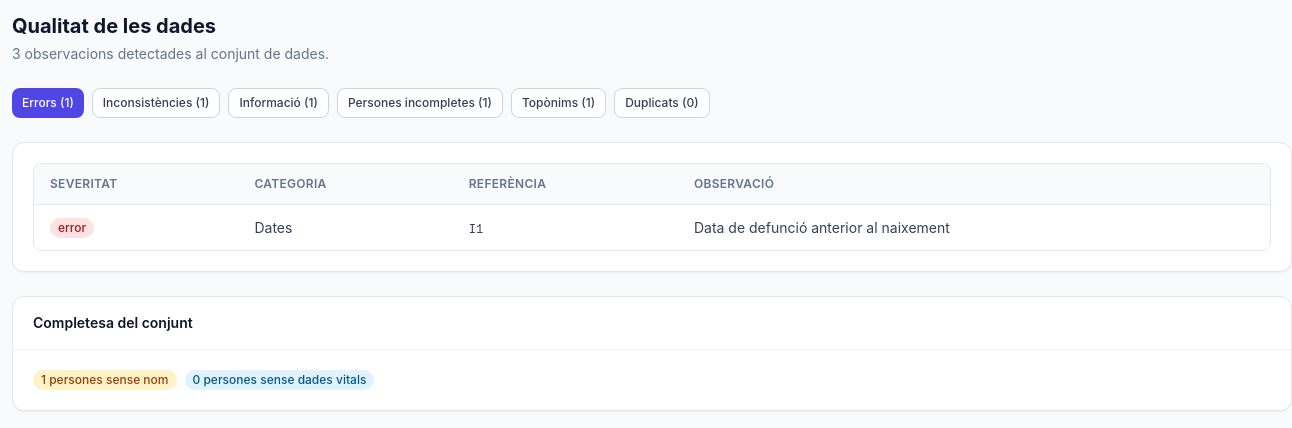
Scenario: QualityPage › mostra els topònims
Expected: the heading "Qualitat de les dades" is shown, [12, 14, 216, 38]
Click the button "Topònims (1)" at (559, 103), box [511, 88, 606, 118]
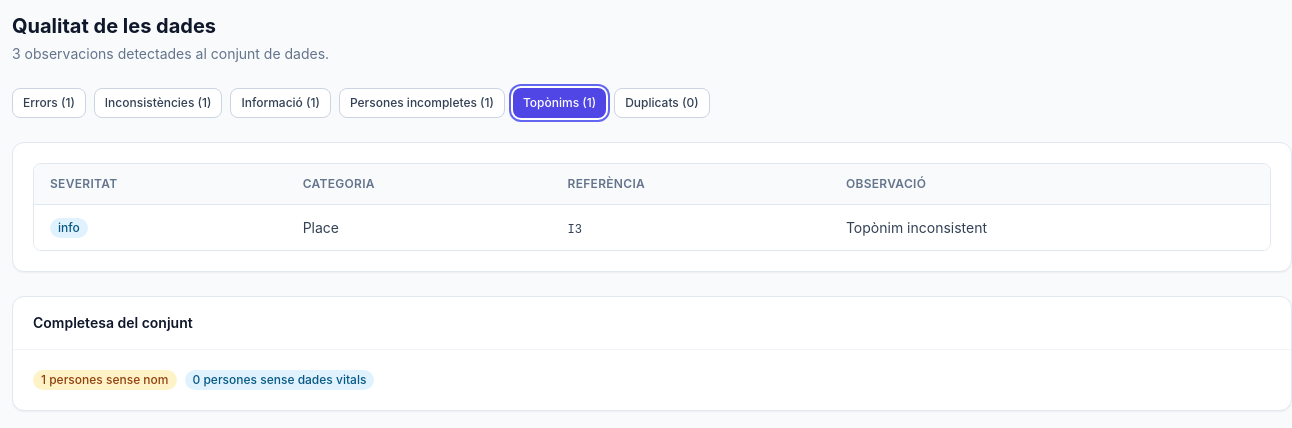
Expected: the text "Topònim inconsistent" is shown, [846, 218, 987, 236]
